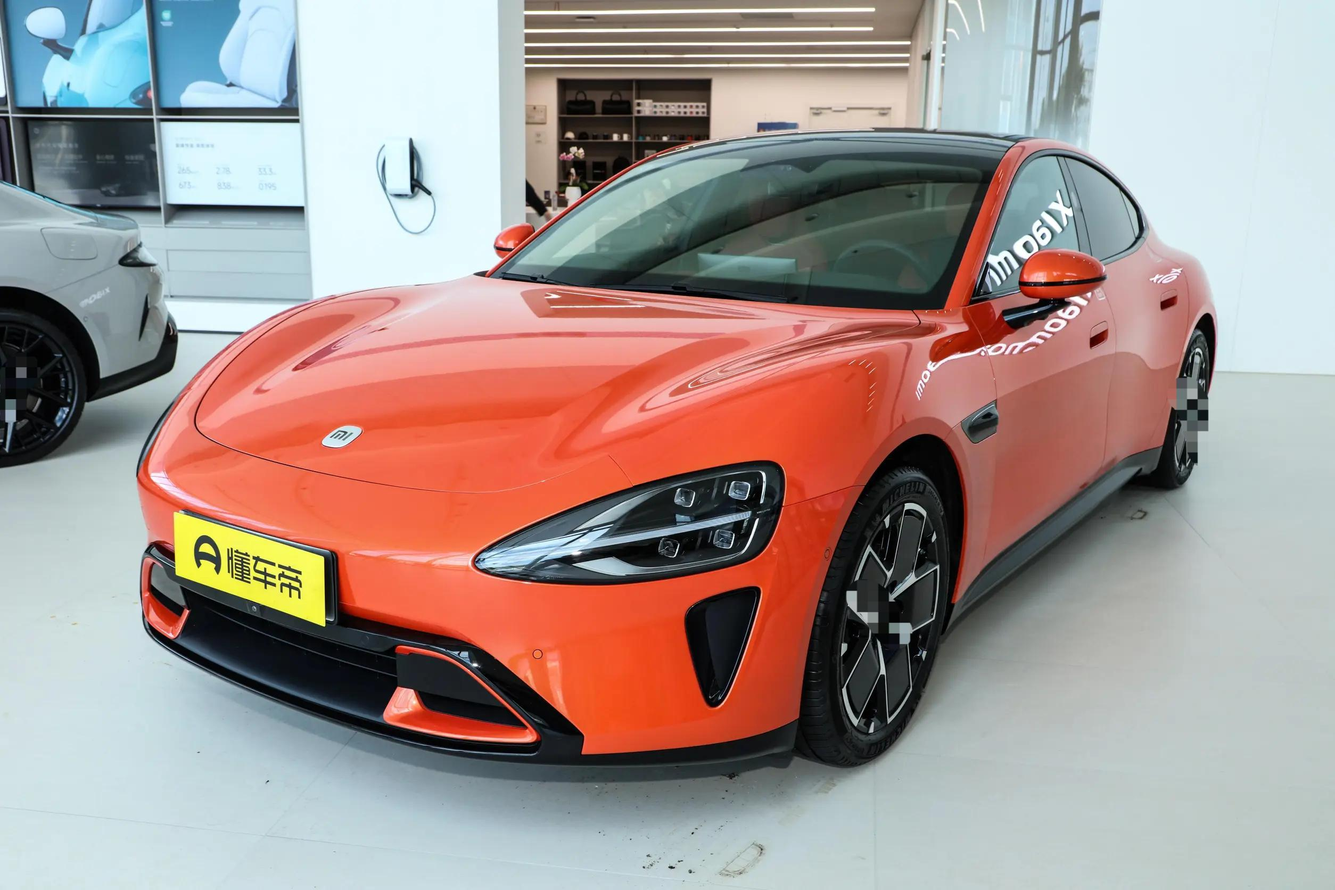XIAOMI: (322, 425, 361, 448)
